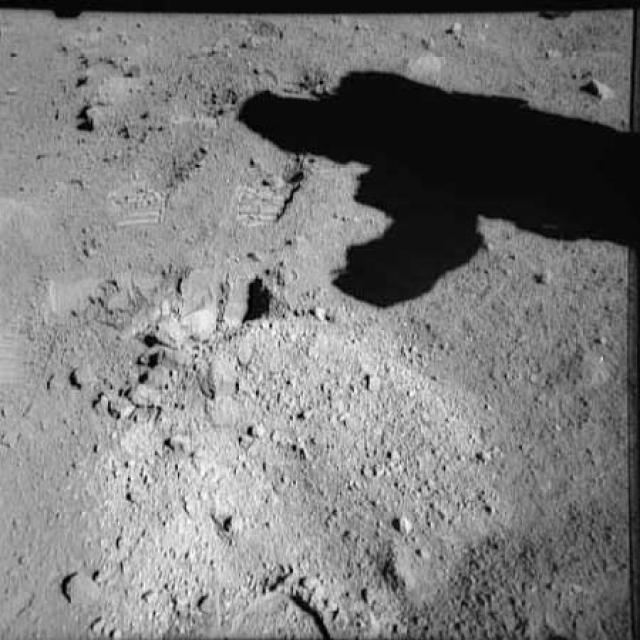crater: (47, 82, 133, 144), (46, 554, 117, 610), (563, 64, 622, 112)
